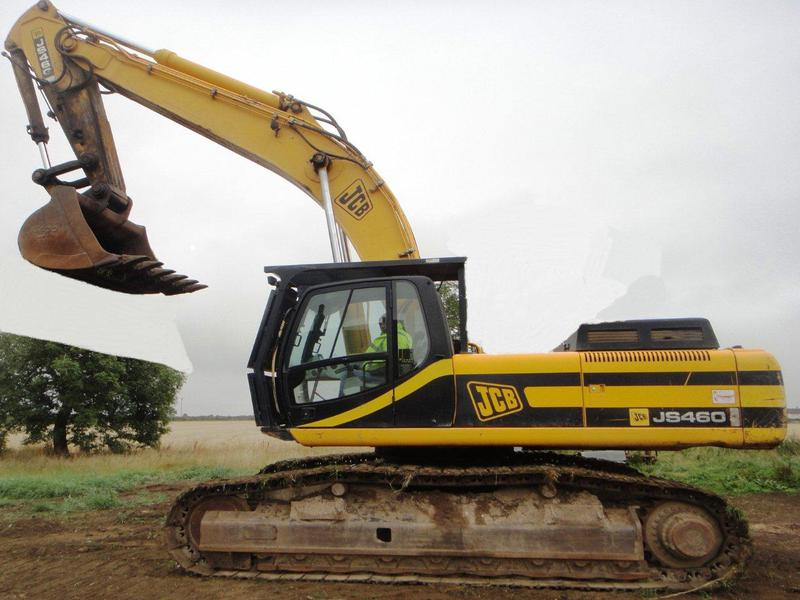shovel: (4, 2, 797, 599)
